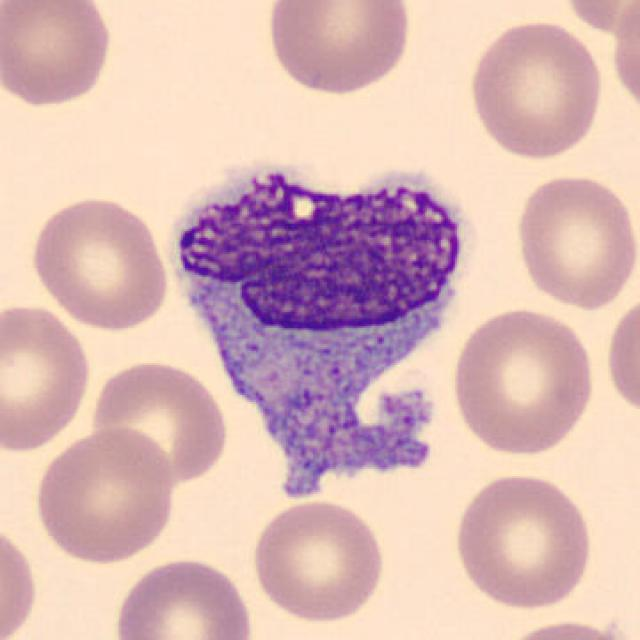Monocyte: (162, 146, 480, 520)
RBC: (448, 302, 599, 458), (448, 467, 597, 612), (30, 423, 178, 566), (25, 192, 174, 332), (464, 16, 606, 162), (87, 356, 231, 488), (247, 497, 388, 626), (511, 171, 636, 312), (261, 0, 416, 99), (0, 299, 94, 456), (0, 0, 117, 111), (108, 553, 257, 640), (602, 289, 640, 423), (0, 516, 41, 640), (608, 0, 640, 122), (491, 615, 636, 640), (556, 0, 638, 39)
